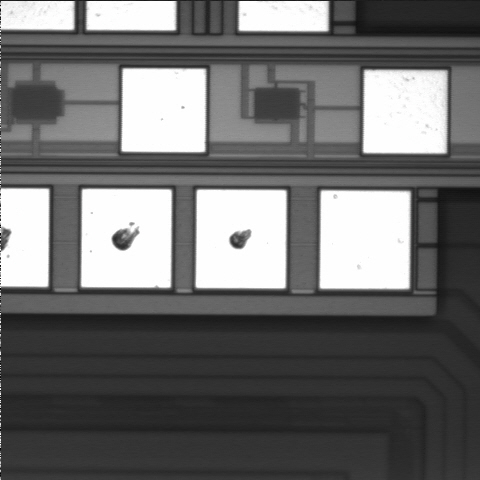pad: (81, 189, 172, 288), (196, 190, 286, 288), (320, 191, 410, 289), (122, 69, 206, 152), (363, 70, 447, 153)
